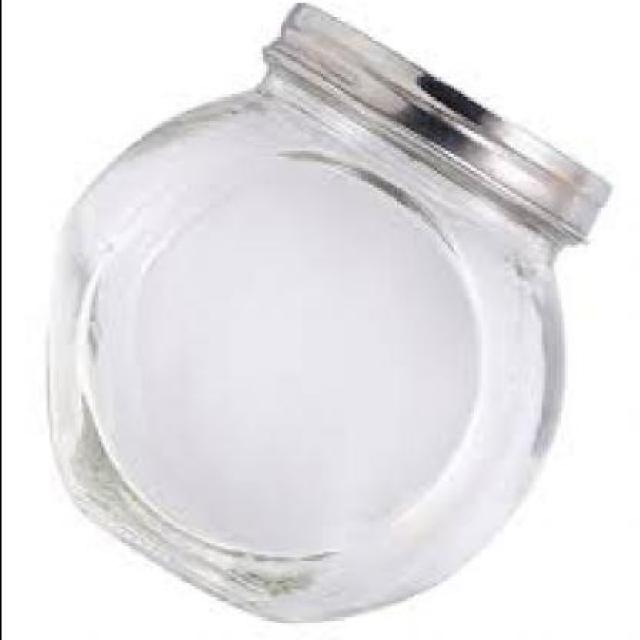GLASS: (48, 91, 561, 626)
METAL: (260, 8, 614, 248)
